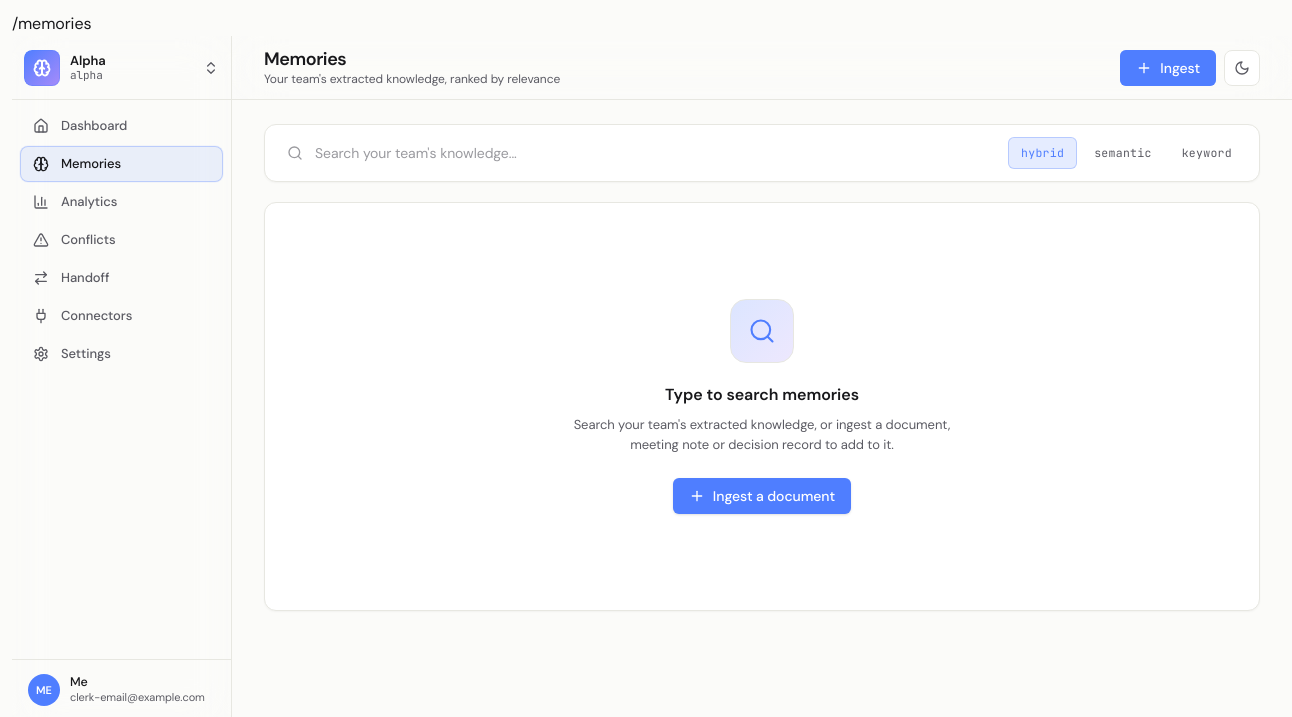
it: workspace picker › switching scopes later requests to the chosen workspace and remembers it
Expected: the element with test id "memories-empty" is shown, [264, 202, 1260, 611]
Press Enter in the button with test id "workspace-switcher", box [24, 50, 219, 86]
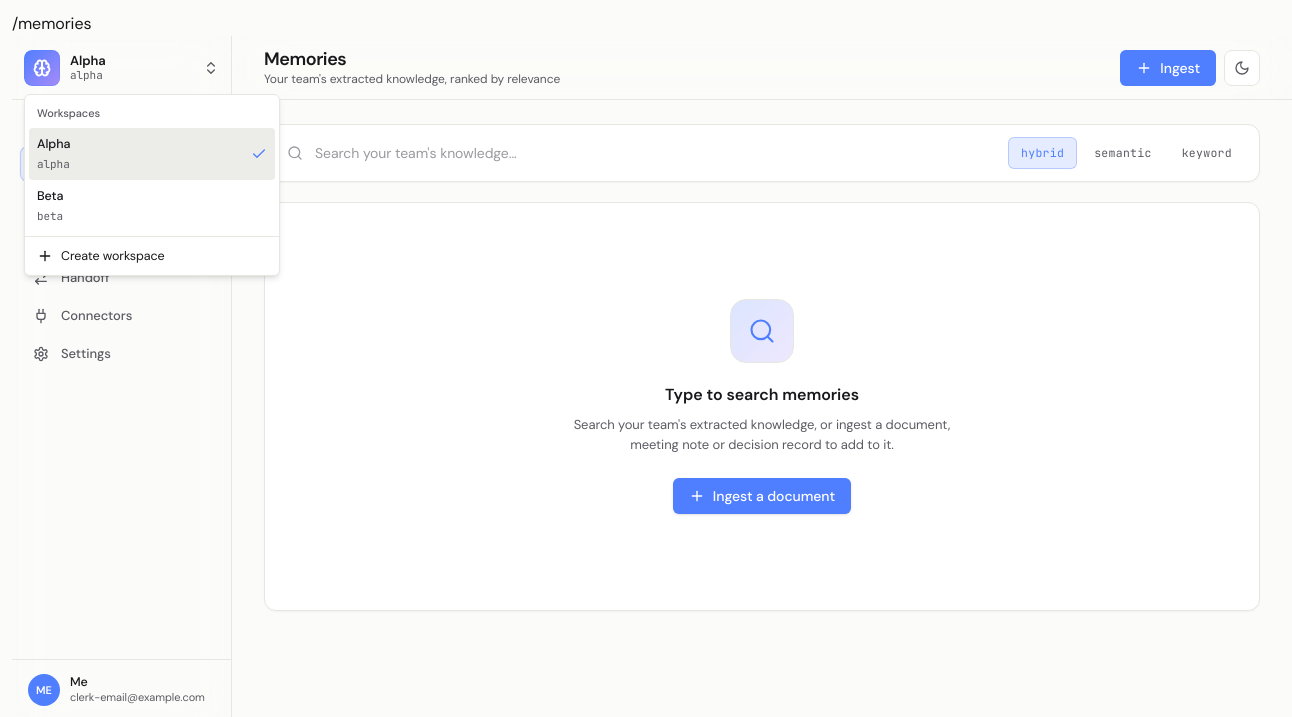
Click the menu item "Beta beta" at (50, 205), box [37, 188, 64, 222]
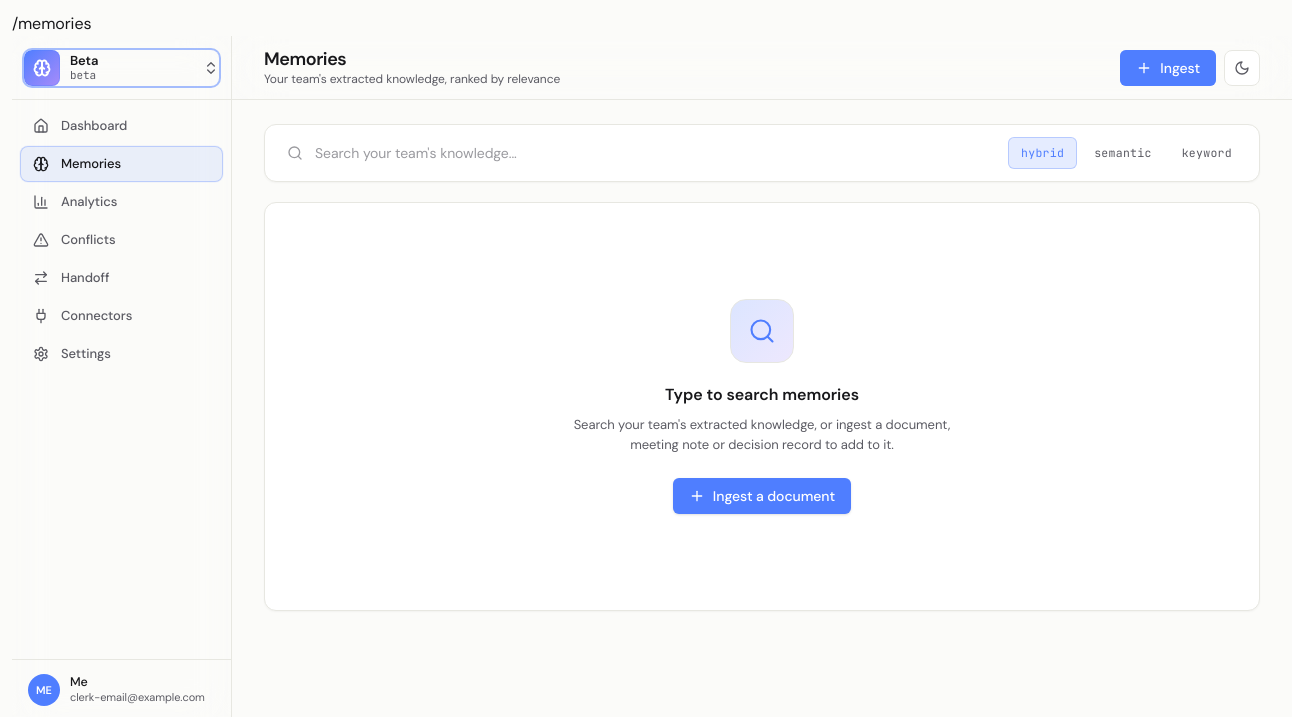
Expected: the button with test id "workspace-switcher" shows "Beta", [24, 50, 219, 86]
Type "anything" into the field with test id "memories-search-input" at (636, 153), box [271, 131, 1000, 175]
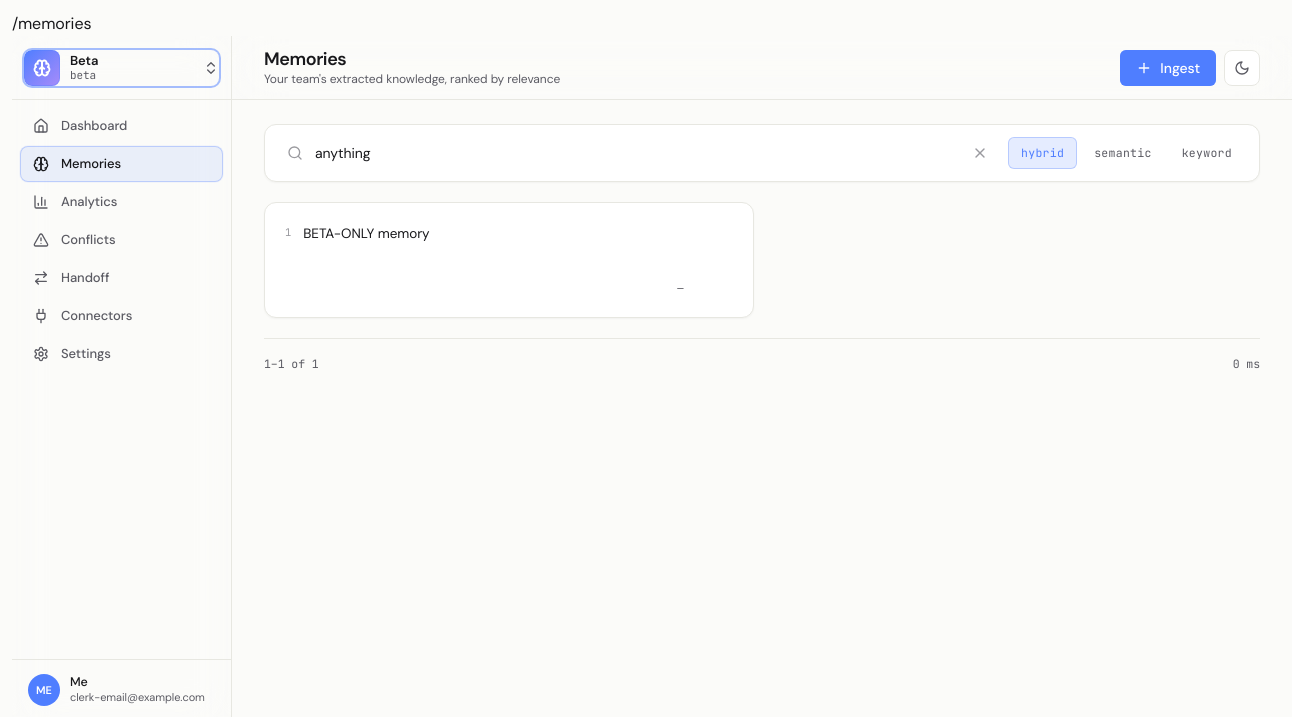
Expected: the text "BETA-ONLY memory" is shown, [303, 225, 430, 242]
